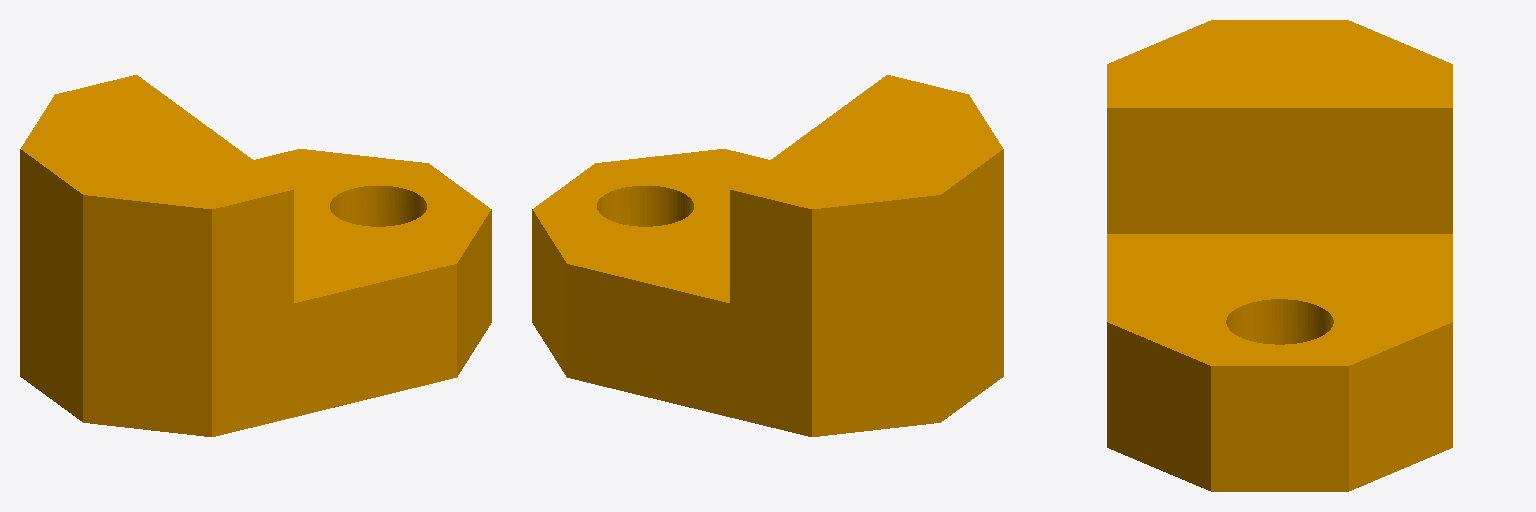
URDF robot description (camera):
<?xml version="1.0" ?>
<robot name="camera" xmlns:body="http://playerstage.sourceforge.net/gazebo/xmlschema/#body" xmlns:controller="http://playerstage.sourceforge.net/gazebo/xmlschema/#controller" xmlns:geom="http://playerstage.sourceforge.net/gazebo/xmlschema/#geom" xmlns:sensor="http://playerstage.sourceforge.net/gazebo/xmlschema/#sensor" xmlns:xacro="http://ros.org/wiki/xacro">
  <link name="object_link">
    <visual>
      <material name="black"/>
      <geometry>
        <mesh filename="package://kinect_bringup/meshes/object.stl"/>
      </geometry>
    </visual>
    <collision>
      <origin xyz="0 0 0"/>
      <geometry>
        <box size="0.065 0.25 0.082"/>
      </geometry>
    </collision>
    <inertial>
      <mass value="0.935"/>
      <inertia ixx="0.0053937" ixy="0" ixz="0" iyy="0.00085311" iyz="0" izz="0.00519899"/>
    </inertial>
  </link>
  <link name="world"/>
  <!-- <!-\- Joint -\-> -->
  <joint name="joint_rgb_kinect" type="fixed">
    <origin rpy="1.57079637 3.14159274 1.57079637"/>
    <parent link="object_link"/>
    <child link="world"/>
  </joint>
  <gazebo reference="object_link">
    <mu1>0.2</mu1>
    <mu2>0.2</mu2>
    <material>Gazebo/Gray</material>
  </gazebo>
</robot>

--- What the picture shows (computed from the rendered views, not written in the file) ---
The picture shows the robot from 3 angles, left to right: view 1: azimuth 30°, elevation 25°; view 2: azimuth 150°, elevation 25°; view 3: azimuth 270°, elevation 25°; orthographic projection.
Model camera with 2 links and 1 joints (1 fixed), rooted at object_link, posed all joints at 0.
Links seen in each view (by area): view 1: object_link; view 2: object_link; view 3: object_link.
Link boxes in pixels (x1,y1,x2,y2): object_link: [20, 75, 491, 436]; object_link: [532, 75, 1003, 436]; object_link: [1107, 20, 1452, 491].
Bounding box of the posed robot: 0.15 × 0.1 × 0.08 m (x, y, z).
1 mesh visuals loaded from 1 distinct referenced files (1 binary STL).